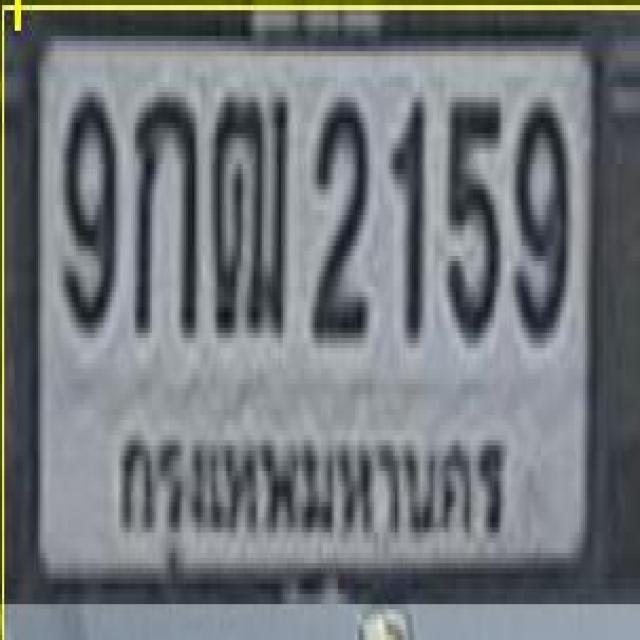license_plate: (14, 13, 624, 595)
